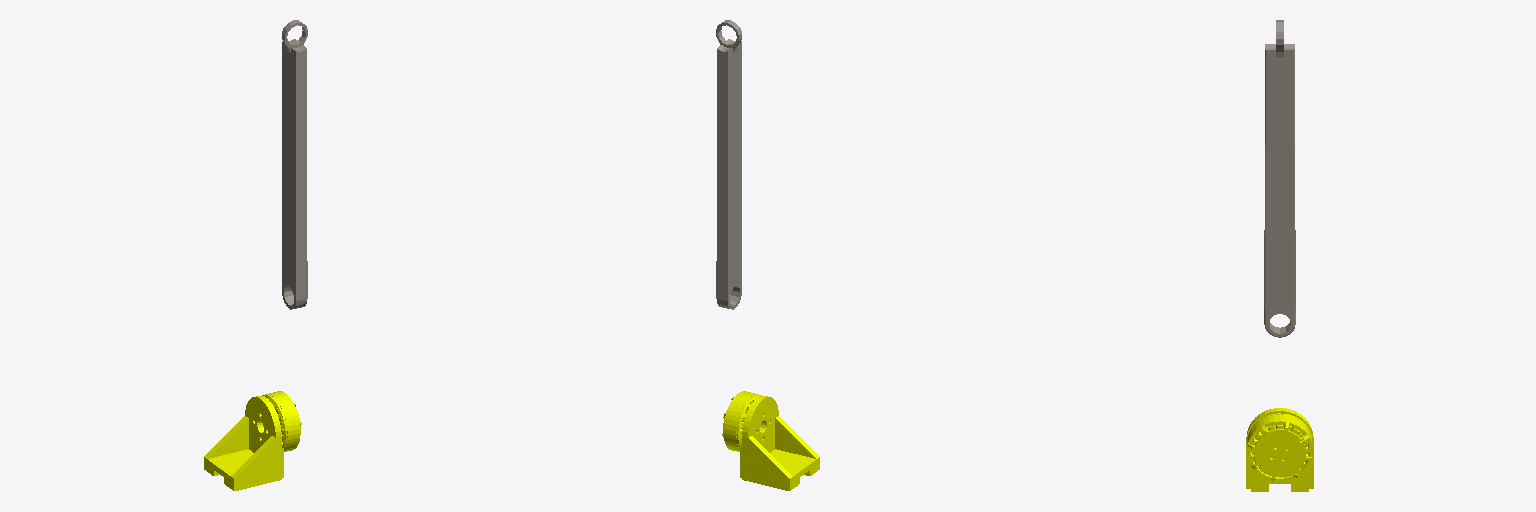
The robot description file, URDF, robot "2dof_planar":
<?xml version="1.0" encoding="utf-8"?>
<!-- This URDF was automatically created by SolidWorks to URDF Exporter! Originally created by [author] ([email redacted])
     Commit Version: 1.5.1-0-g916b5db  Build Version: 1.5.7152.31018
     For more information, please see http://wiki.ros.org/sw_urdf_exporter -->
<robot
  name="2dof_planar">
  <link
    name="base_link">
    <inertial>
      <origin
        xyz="0.0030299 2.6279E-13 0.02912"
        rpy="0 0 0" />
      <mass
        value="0.10159" />
      <inertia
        ixx="2.636E-05"
        ixy="-1.007E-16"
        ixz="-2.3835E-06"
        iyy="1.8042E-05"
        iyz="-4.6617E-09"
        izz="1.8795E-05" />
    </inertial>
    <visual>
      <origin
        xyz="0 0 0"
        rpy="0 0 0" />
      <geometry>
        <mesh
          filename="package://2dof_description/meshes/base_link.STL" />
      </geometry>
      <material
        name="">
        <color
          rgba="0.96078 1 0 1" />
      </material>
    </visual>
    <collision>
      <origin
        xyz="0 0 0"
        rpy="0 0 0" />
      <geometry>
        <mesh
          filename="package://2dof_description/meshes/base_link.STL" />
      </geometry>
    </collision>
  </link>
  <link
    name="link1">
    <inertial>
      <origin
        xyz="0.0086107 2.1727E-06 0.036012"
        rpy="0 0 0" />
      <mass
        value="0.26703" />
      <inertia
        ixx="0.00040827"
        ixy="1.2675E-09"
        ixz="1.8738E-05"
        iyy="0.00038791"
        iyz="3.5443E-08"
        izz="3.6421E-05" />
    </inertial>
    <visual>
      <origin
        xyz="0 0 0"
        rpy="0 0 0" />
      <geometry>
        <mesh
          filename="package://2dof_description/meshes/link1.STL" />
      </geometry>
      <material
        name="">
        <color
          rgba="0.64706 0.61961 0.58824 1" />
      </material>
    </visual>
    <collision>
      <origin
        xyz="0 0 0"
        rpy="0 0 0" />
      <geometry>
        <mesh
          filename="package://2dof_description/meshes/link1.STL" />
      </geometry>
    </collision>
  </link>
  <joint
    name="joint1"
    type="revolute">
    <origin
      xyz="0.0060872 0 0.035"
      rpy="0 0 0" />
    <parent
      link="base_link" />
    <child
      link="link1" />
    <axis
      xyz="1 0 0" />
    <limit
      lower="0"
      upper="0"
      effort="0"
      velocity="0" />
    <dynamics
      damping="0.05" />
  </joint>
  <link
    name="link2">
    <inertial>
      <origin
        xyz="-0.0050107 1.9371E-10 0.10088"
        rpy="0 0 0" />
      <mass
        value="0.33238" />
      <inertia
        ixx="0.0011753"
        ixy="-3.854E-13"
        ixz="-2.9304E-08"
        iyy="0.0011666"
        iyz="-5.2365E-12"
        izz="1.4553E-05" />
    </inertial>
    <visual>
      <origin
        xyz="0 0 0"
        rpy="0 0 0" />
      <geometry>
        <mesh
          filename="package://2dof_description/meshes/link2.STL" />
      </geometry>
      <material
        name="">
        <color
          rgba="0.64706 0.61961 0.58824 1" />
      </material>
    </visual>
    <collision>
      <origin
        xyz="0 0 0"
        rpy="0 0 0" />
      <geometry>
        <mesh
          filename="package://2dof_description/meshes/link2.STL" />
      </geometry>
    </collision>
  </link>
  <joint
    name="joint2"
    type="revolute">
    <origin
      xyz="0.023 0 0.1"
      rpy="0 0 0" />
    <parent
      link="link1" />
    <child
      link="link2" />
    <axis
      xyz="1 0 0" />
    <limit
      lower="0"
      upper="0"
      effort="0"
      velocity="0" />
    <dynamics
      damping="0.05" />
  </joint>
</robot>

--- What the picture shows (computed from the rendered views, not written in the file) ---
3 views of the same robot in one strip: view 1: azimuth 30°, elevation 25°; view 2: azimuth 150°, elevation 25°; view 3: azimuth 270°, elevation 25° (orthographic).
Robot: 2dof_planar — 3 links, 2 joints (2 revolute); root link base_link; default pose: all joints at 0.
Visible links, largest first — view 1: link2, base_link; view 2: link2, base_link; view 3: link2, base_link.
Boxes of the visible links, box(x1,y1,x2,y2) form: link2: box(282, 20, 307, 309); base_link: box(204, 391, 301, 490); link2: box(716, 20, 741, 309); base_link: box(722, 391, 819, 490); link2: box(1264, 20, 1295, 337); base_link: box(1246, 408, 1313, 491).
Bounding box of the posed robot: 0.0739 × 0.0448 × 0.355 m (x, y, z).
Meshes: 3 distinct files referenced, 2 mesh visuals loaded (2 binary STL); not drawn: 1 (reference not matched to a file when rendering).